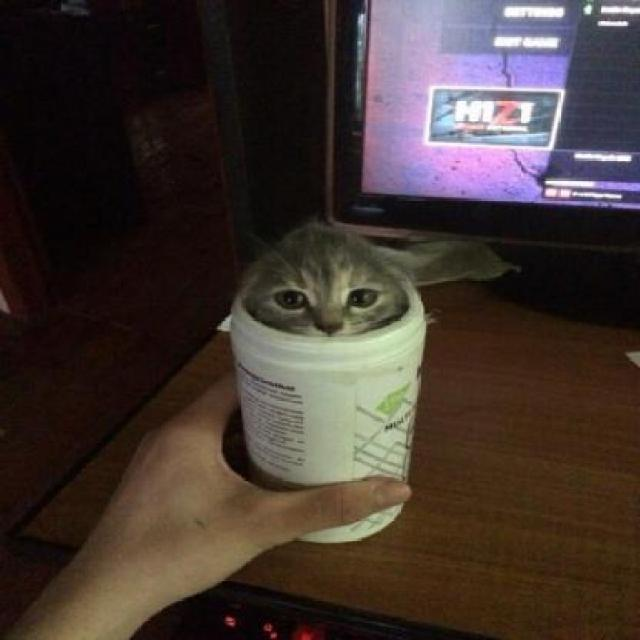cat: (228, 218, 420, 340)
